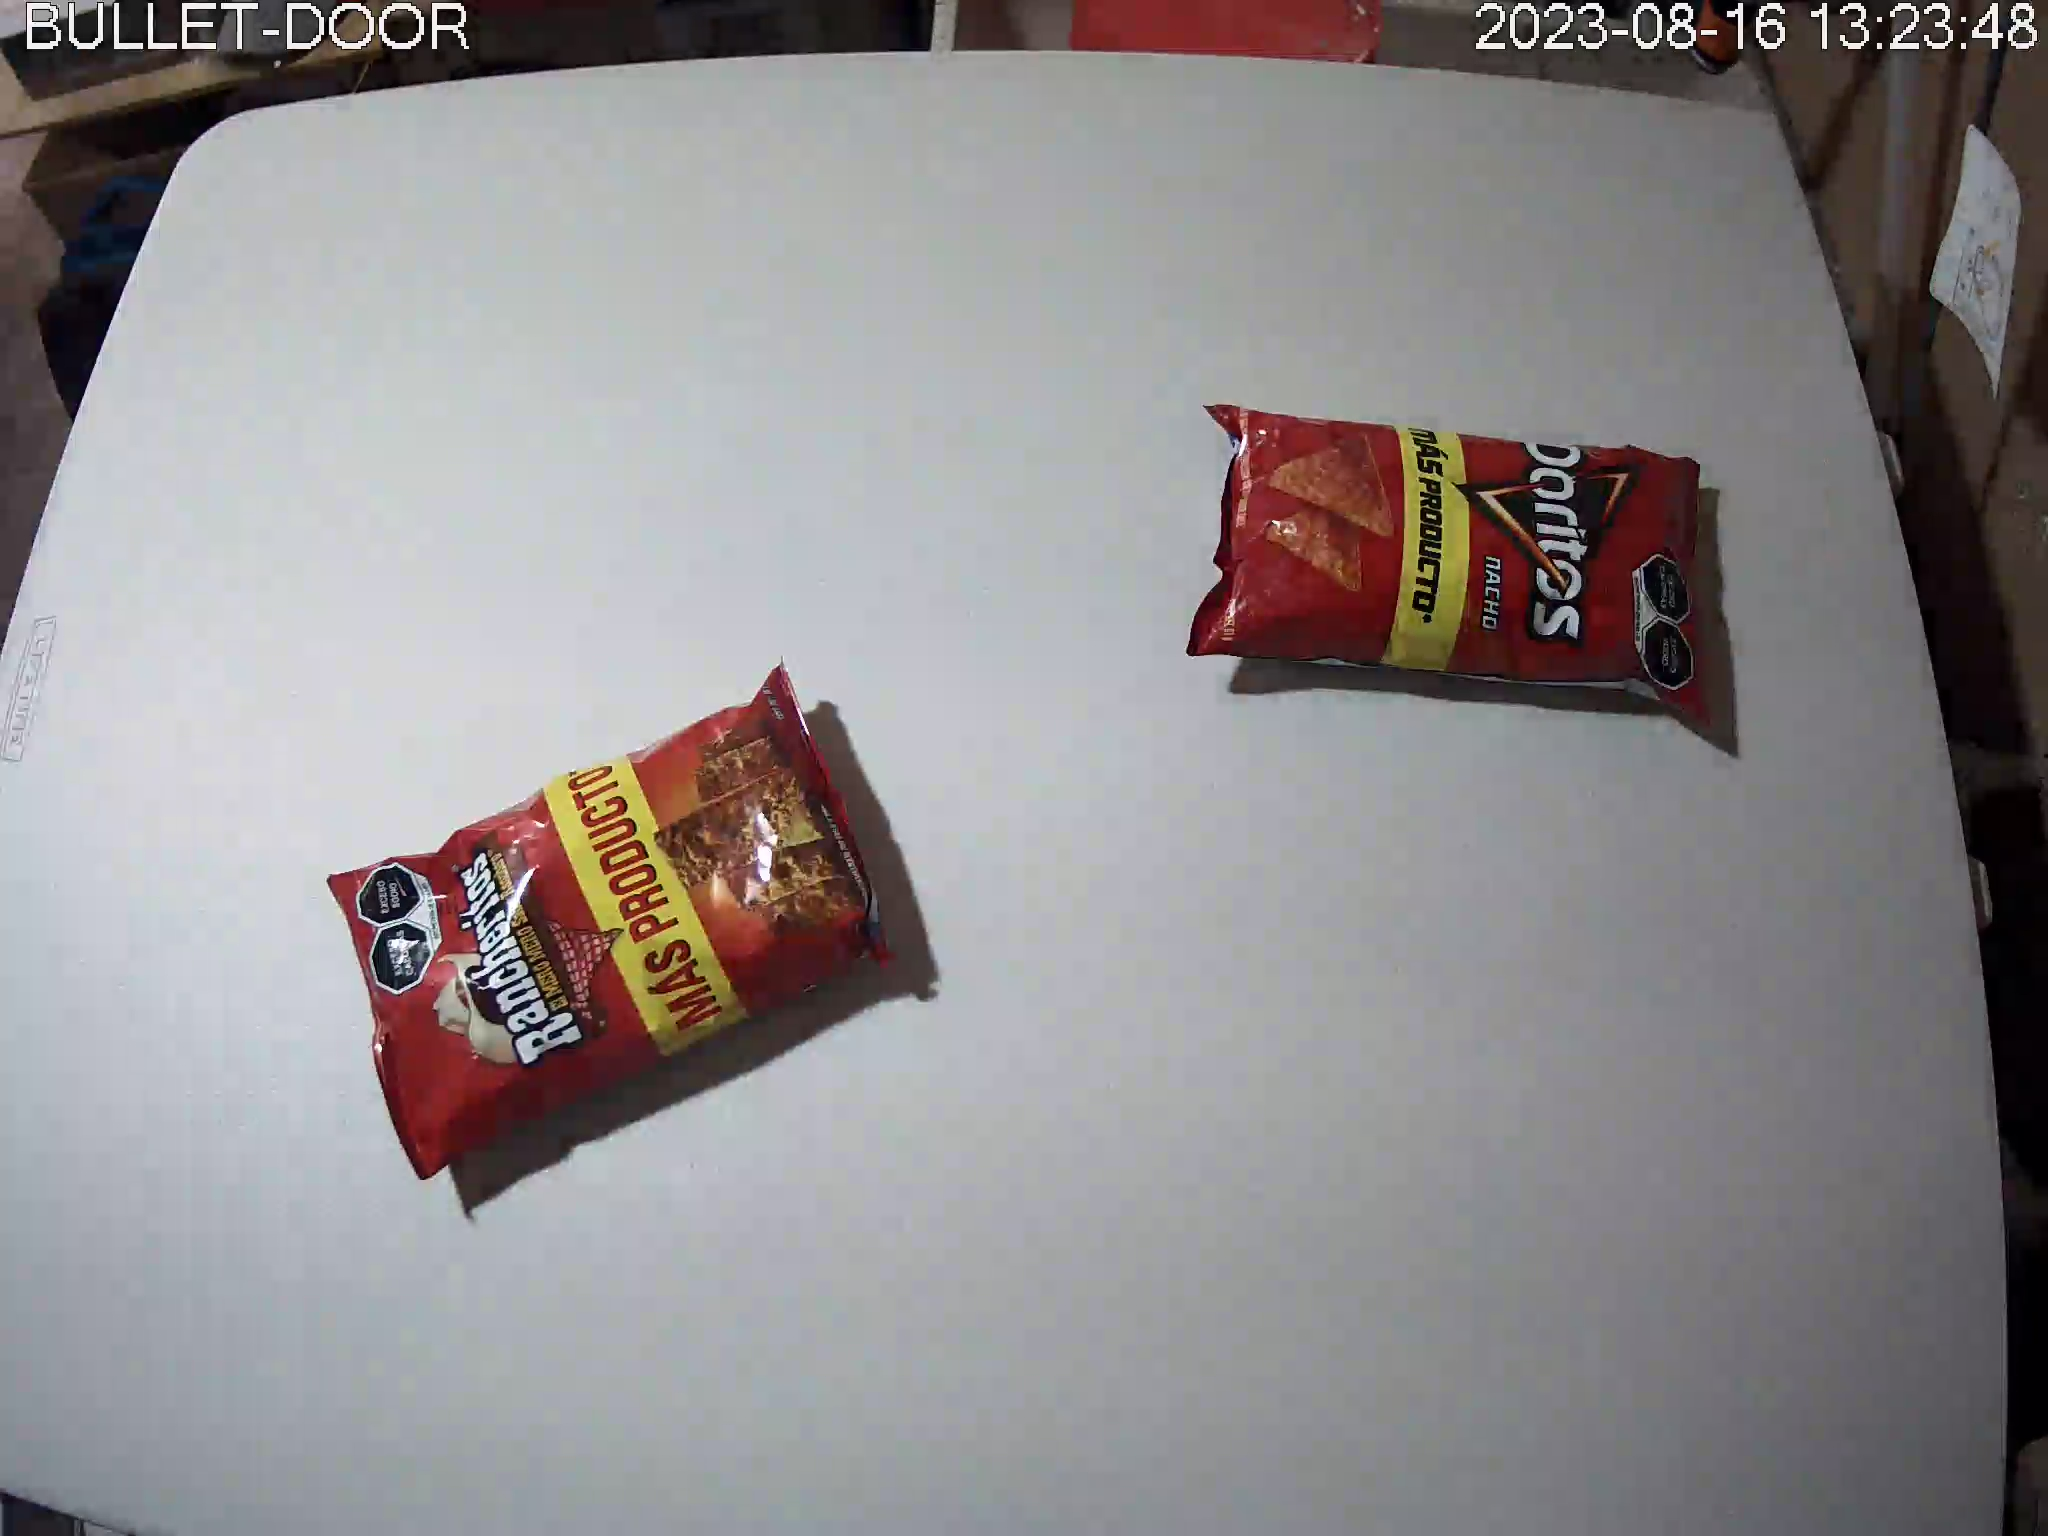DoritosN_61_F: (1188, 402, 1716, 737)
Rancheritos_58_F: (326, 653, 900, 1179)
